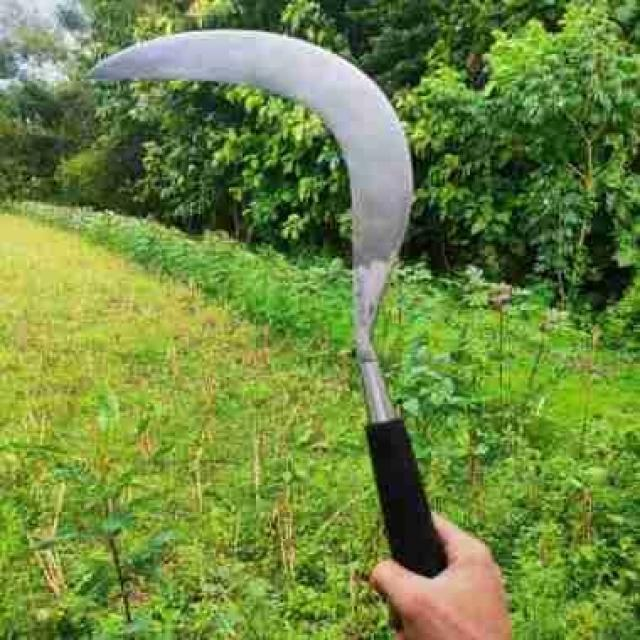machete: (84, 31, 458, 638)
